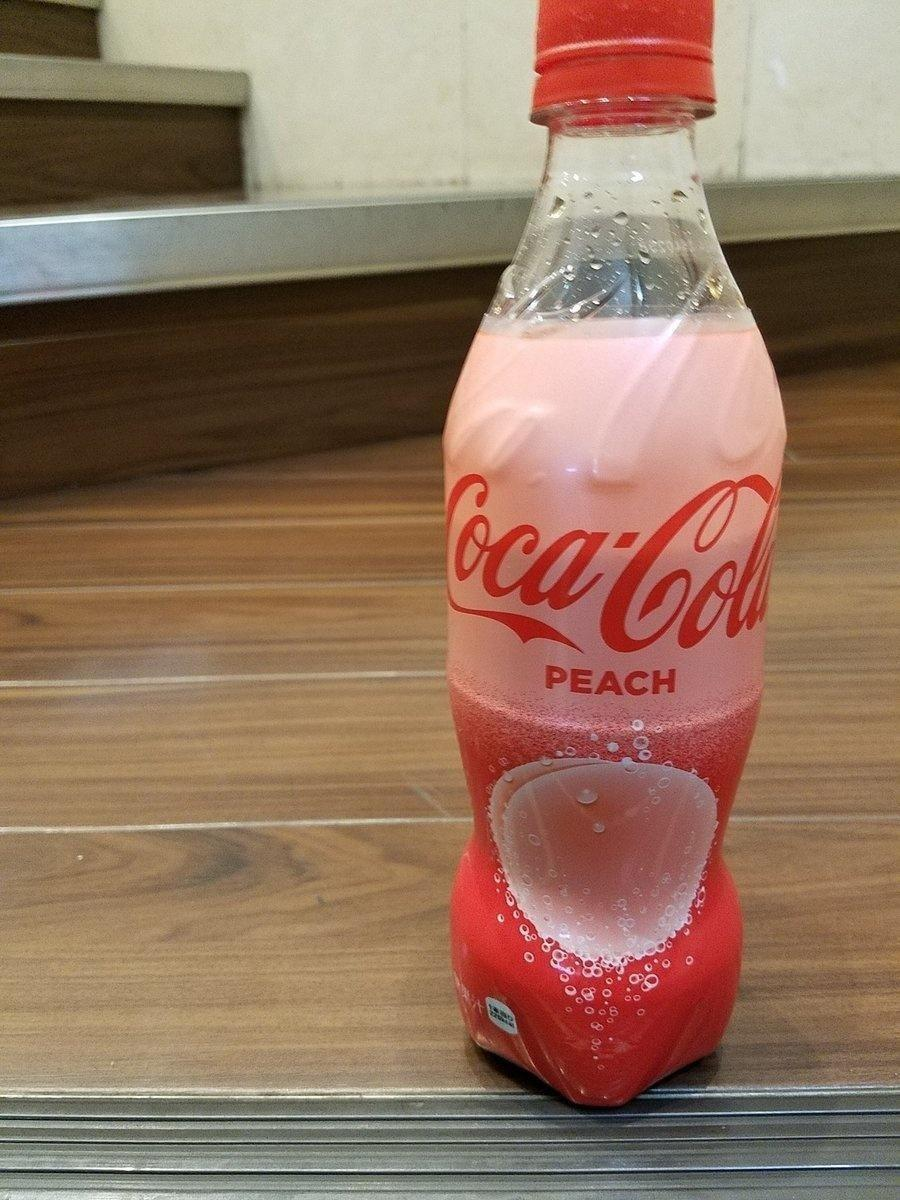bottle-plastic: (436, 0, 793, 1107)
